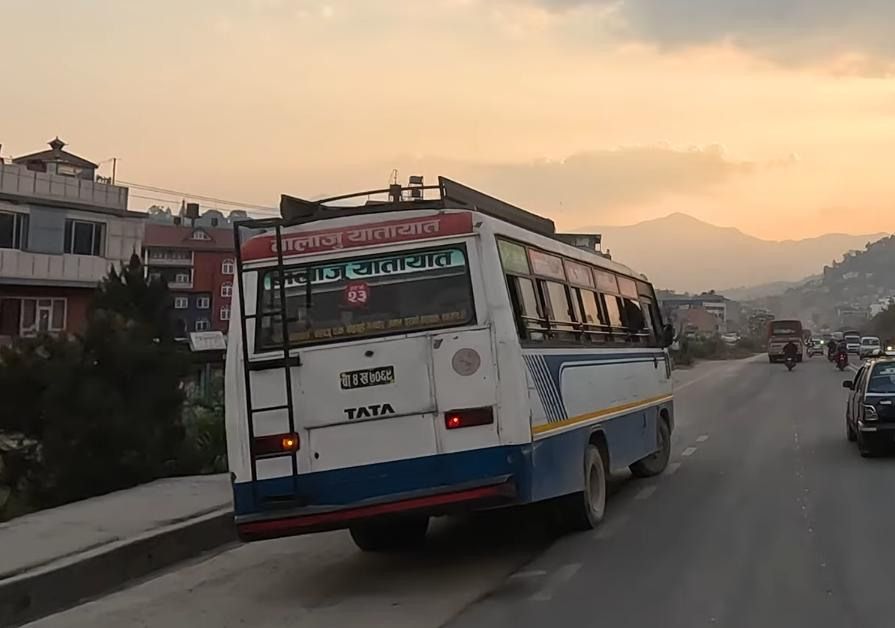bus: (225, 172, 678, 548)
